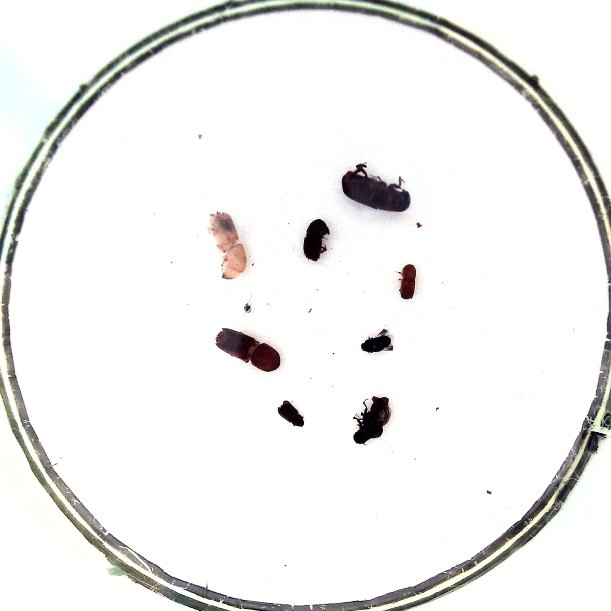acuminatus: (360, 335, 392, 352)
armandi: (353, 396, 391, 445)
boerner: (214, 327, 280, 371), (207, 211, 247, 280)
coleoptera: (277, 401, 304, 427), (400, 264, 416, 299)
leconte: (341, 170, 410, 212)
linnaeus: (303, 219, 329, 261)
